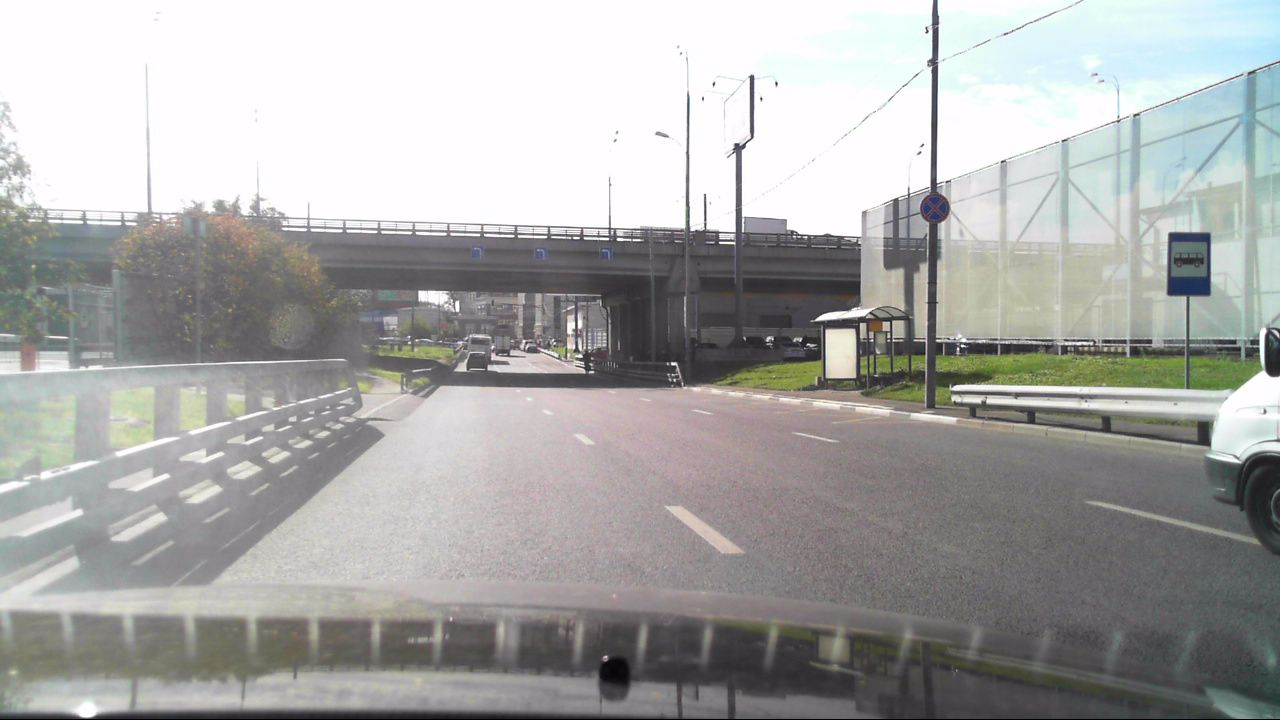No Parking: (917, 193, 952, 223)
